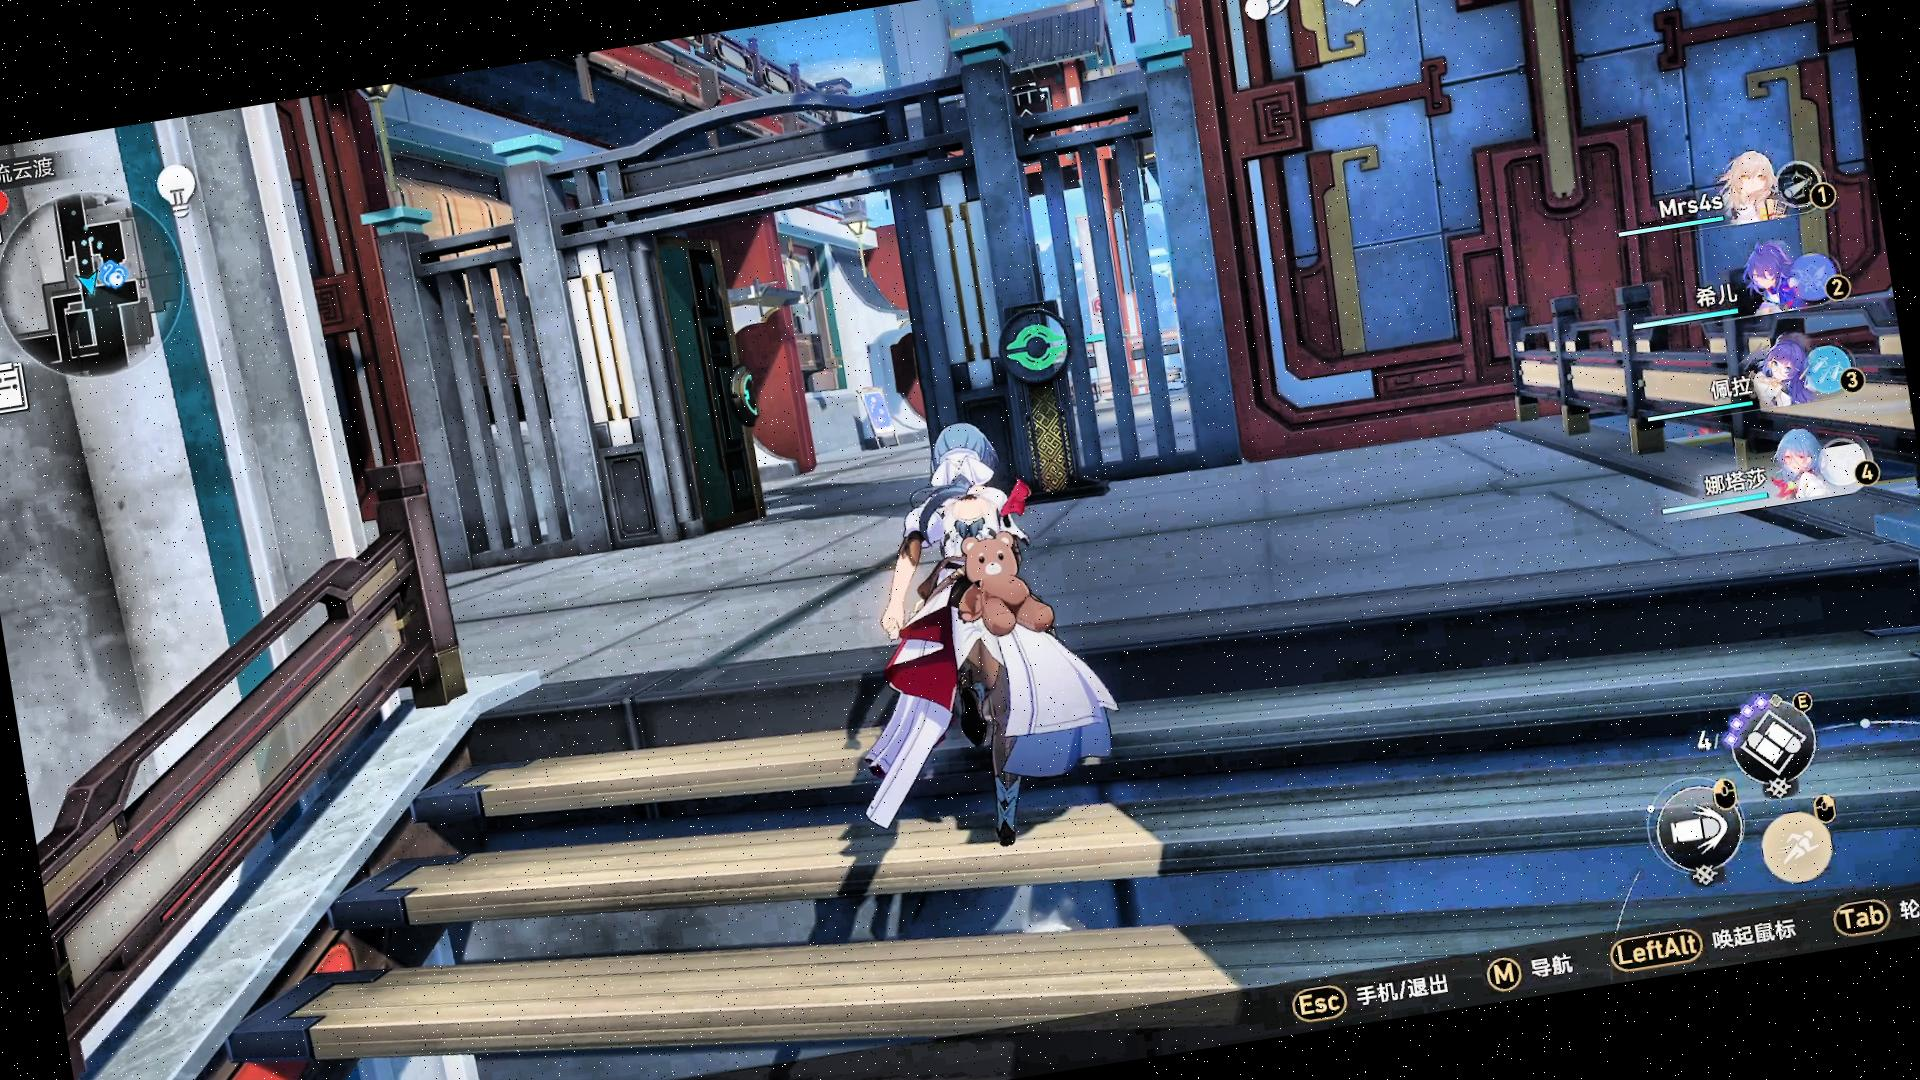Self: (796, 398, 1145, 903)
